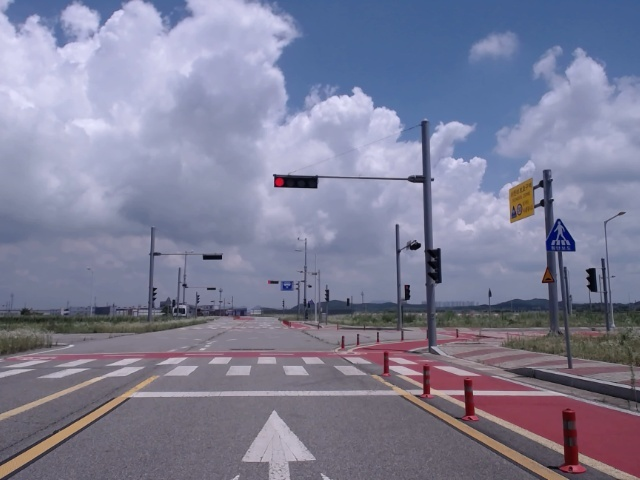red_4: (274, 175, 318, 189)
